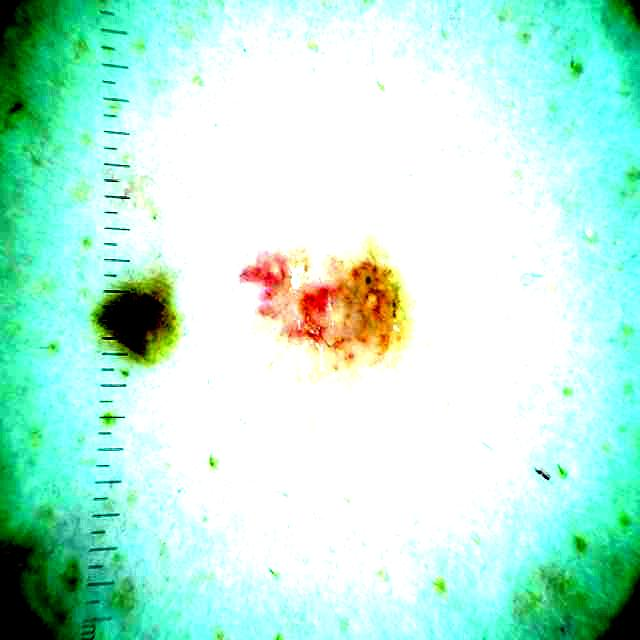BCC: (223, 226, 415, 402), (96, 240, 178, 363)
